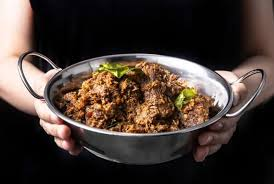rendang: (58, 35, 229, 150)
